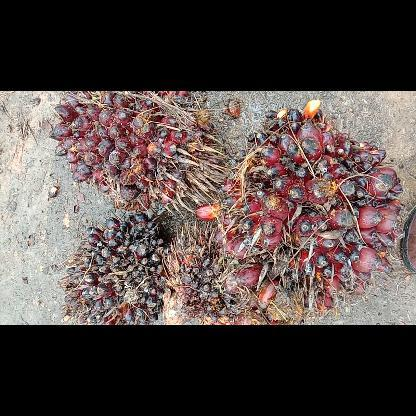Kurang masak: (196, 100, 404, 312)
TBS abnormal: (57, 212, 171, 324), (162, 218, 276, 324)
TBS masak: (50, 91, 226, 215)
